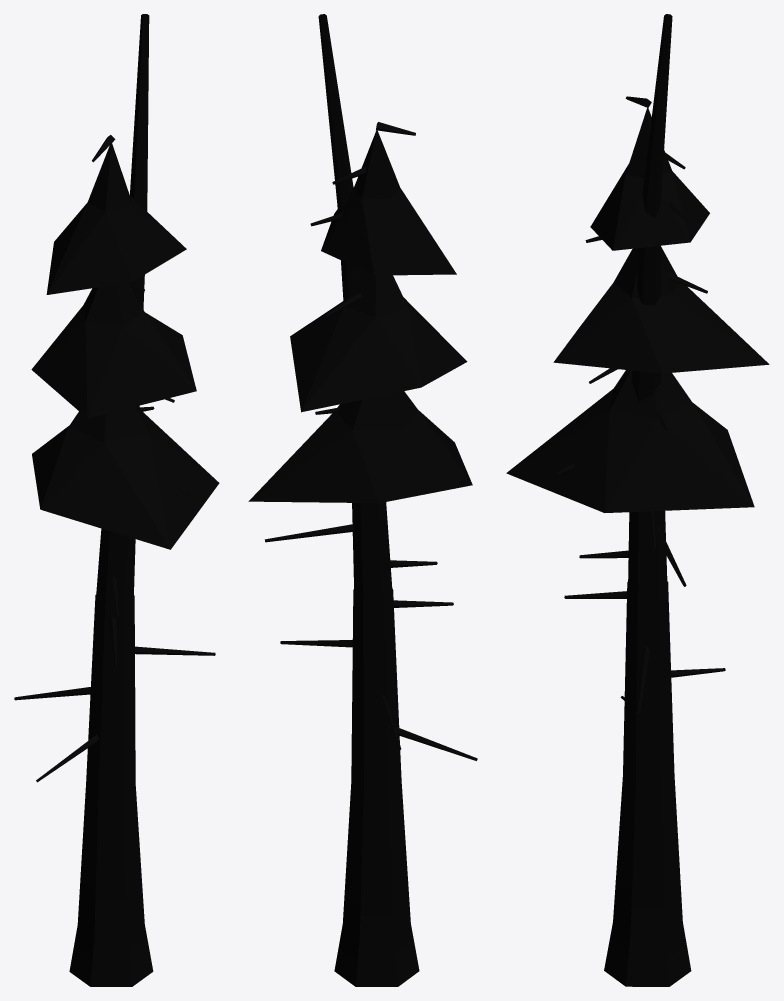
Rendered from SM_pine_dead.fbx.
3 views of the same model, side by side, from view 1: azimuth 30°, elevation 25°; view 2: azimuth 150°, elevation 25°; view 3: azimuth 270°, elevation 25° (orthographic). The views are drawn at different scales.
Visible parts, largest first — view 1: pine_dead_crown, pine_dead; view 2: pine_dead_crown, pine_dead; view 3: pine_dead_crown, pine_dead.
Part boxes in pixels (box(x1,y1,x2,y2)): pine_dead_crown: box(14, 14, 219, 782); pine_dead: box(69, 594, 153, 986); pine_dead_crown: box(248, 14, 477, 760); pine_dead: box(334, 589, 419, 986); pine_dead_crown: box(506, 14, 769, 713); pine_dead: box(604, 581, 691, 986).
Bounding box in the file's own units: 1.58 × 7.6 × 1.86.
